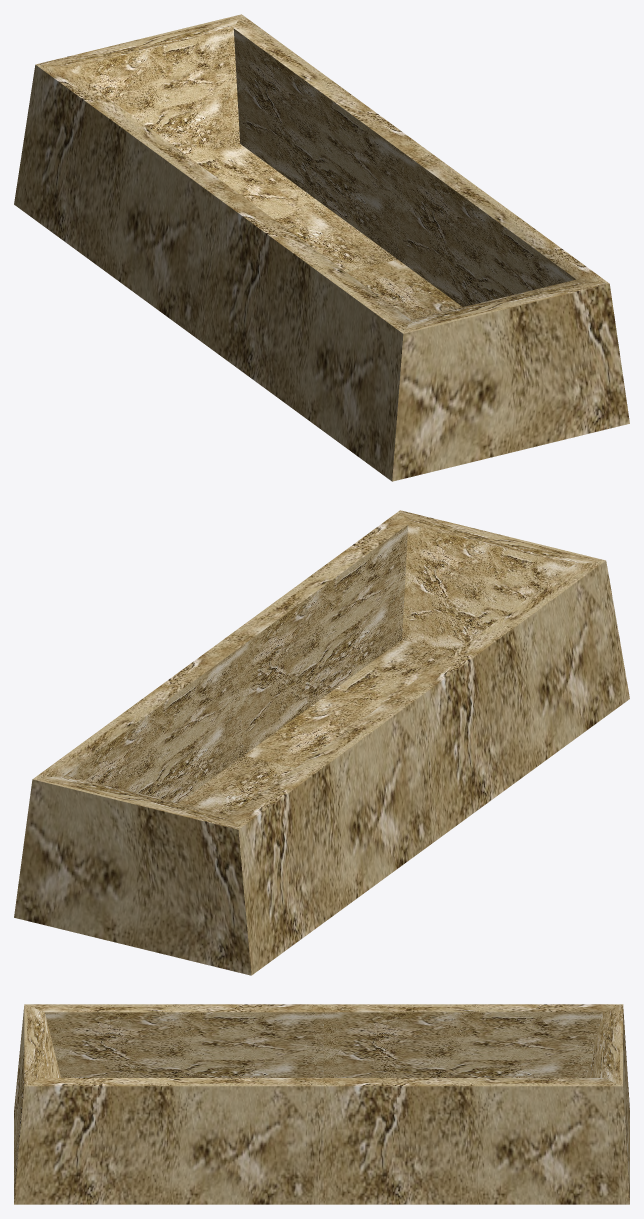
The model's file is pir_m_prp_cem_tomb_1.fbx.
3 renders of one model, top to bottom at view 1: azimuth 30°, elevation 25°; view 2: azimuth 150°, elevation 25°; view 3: azimuth 270°, elevation 25°, orthographic. The views are drawn at different scales.
Parts seen in each view (by area): view 1: lod_high; view 2: lod_high; view 3: lod_high.
Boxes of the visible parts, x1,y1,x2,y2 form: lod_high: (14, 14, 629, 481); lod_high: (14, 510, 629, 975); lod_high: (14, 1004, 629, 1204).
Size of the model in its own units: 294 by 164 by 809.
1 material, 1 textured.
